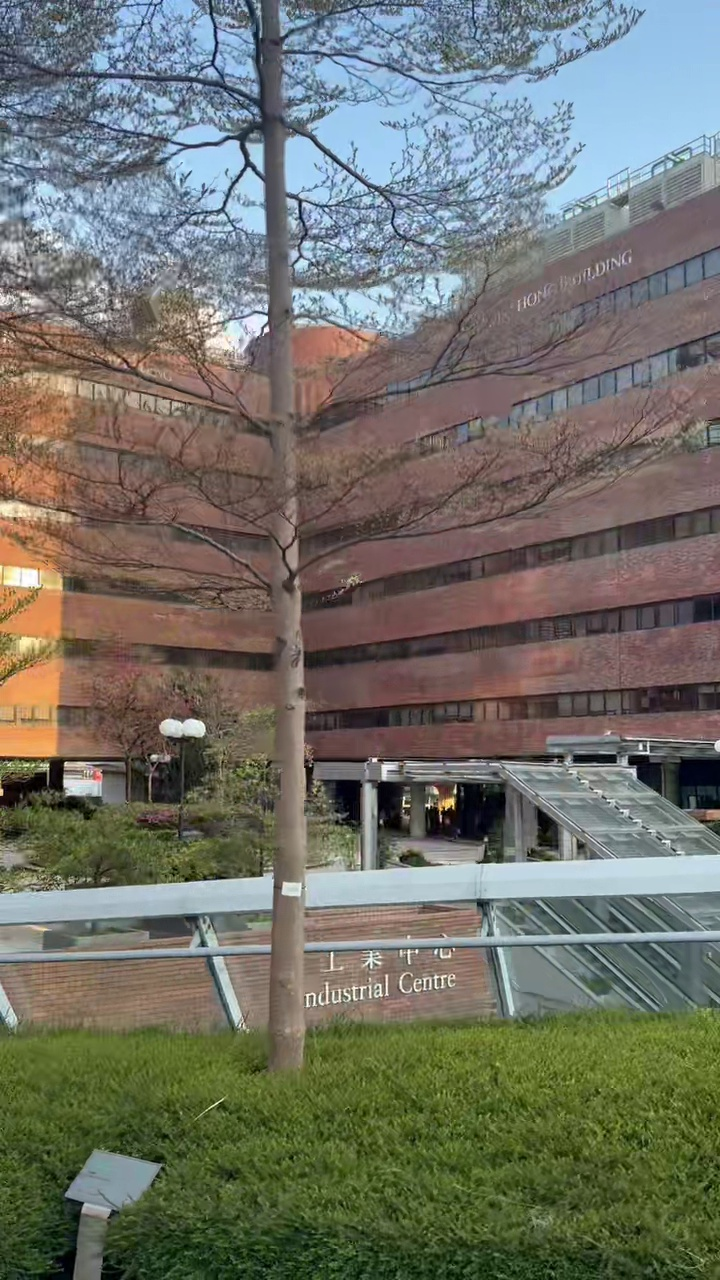Terminalia mantaly: (0, 0, 640, 1069)
